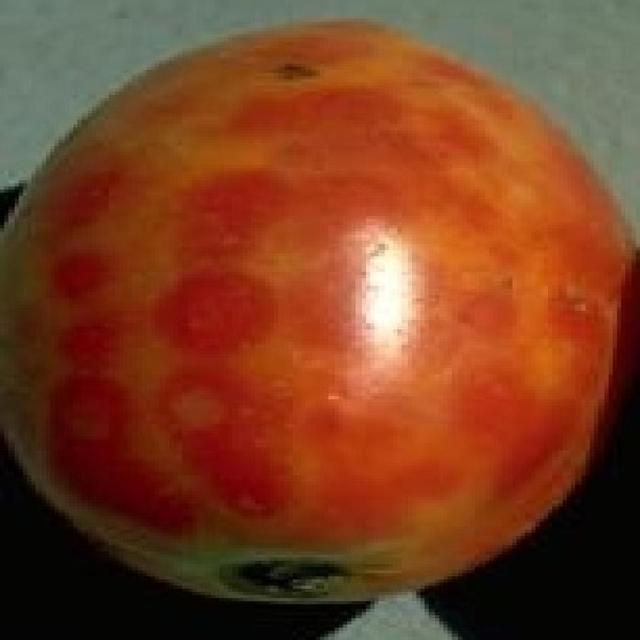Spotted wilt Virus Fruit: (0, 9, 416, 404)
